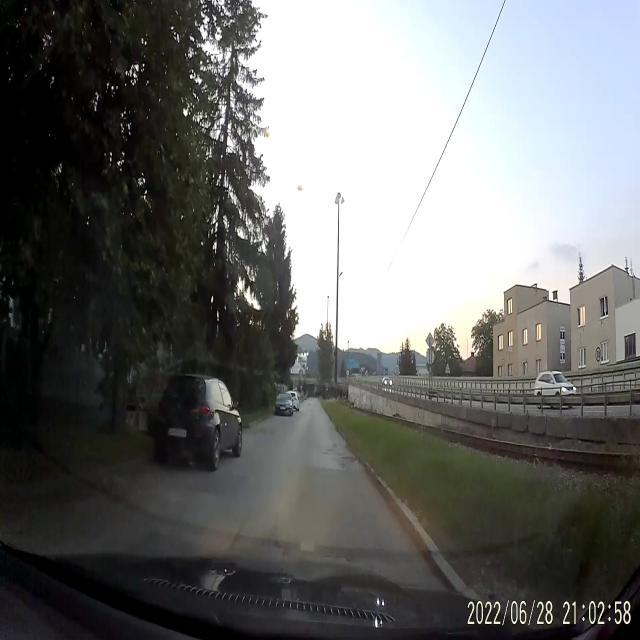Pothole: (338, 452, 357, 472), (320, 437, 338, 458)
